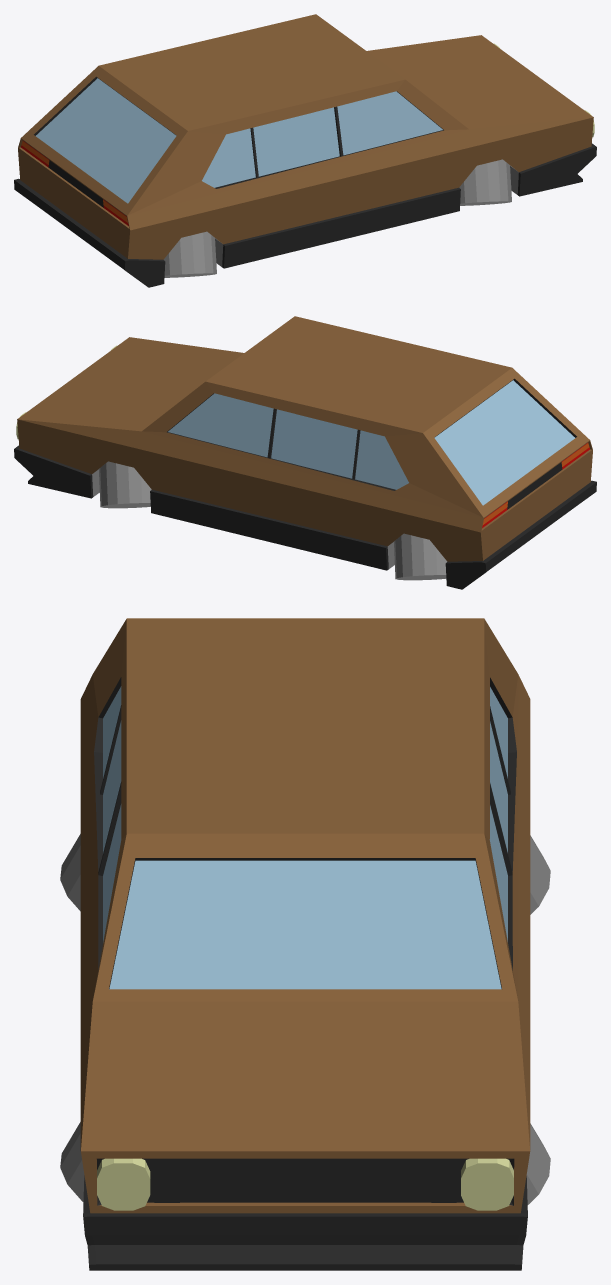
Rendered from Car_Wagon.fbx.
3 renders of one model, top to bottom at view 1: azimuth 30°, elevation 25°; view 2: azimuth 150°, elevation 25°; view 3: azimuth 270°, elevation 25°, orthographic. The views are drawn at different scales.
Parts seen in each view (by area): view 1: Cube.001; view 2: Cube.001; view 3: Cube.001.
Part boxes in pixels (x1,y1,x2,y2): Cube.001: (14,14,596,287); Cube.001: (14,316,596,589); Cube.001: (60,618,550,1270).
Bounding box in the file's own units: 641 × 202 × 288.
